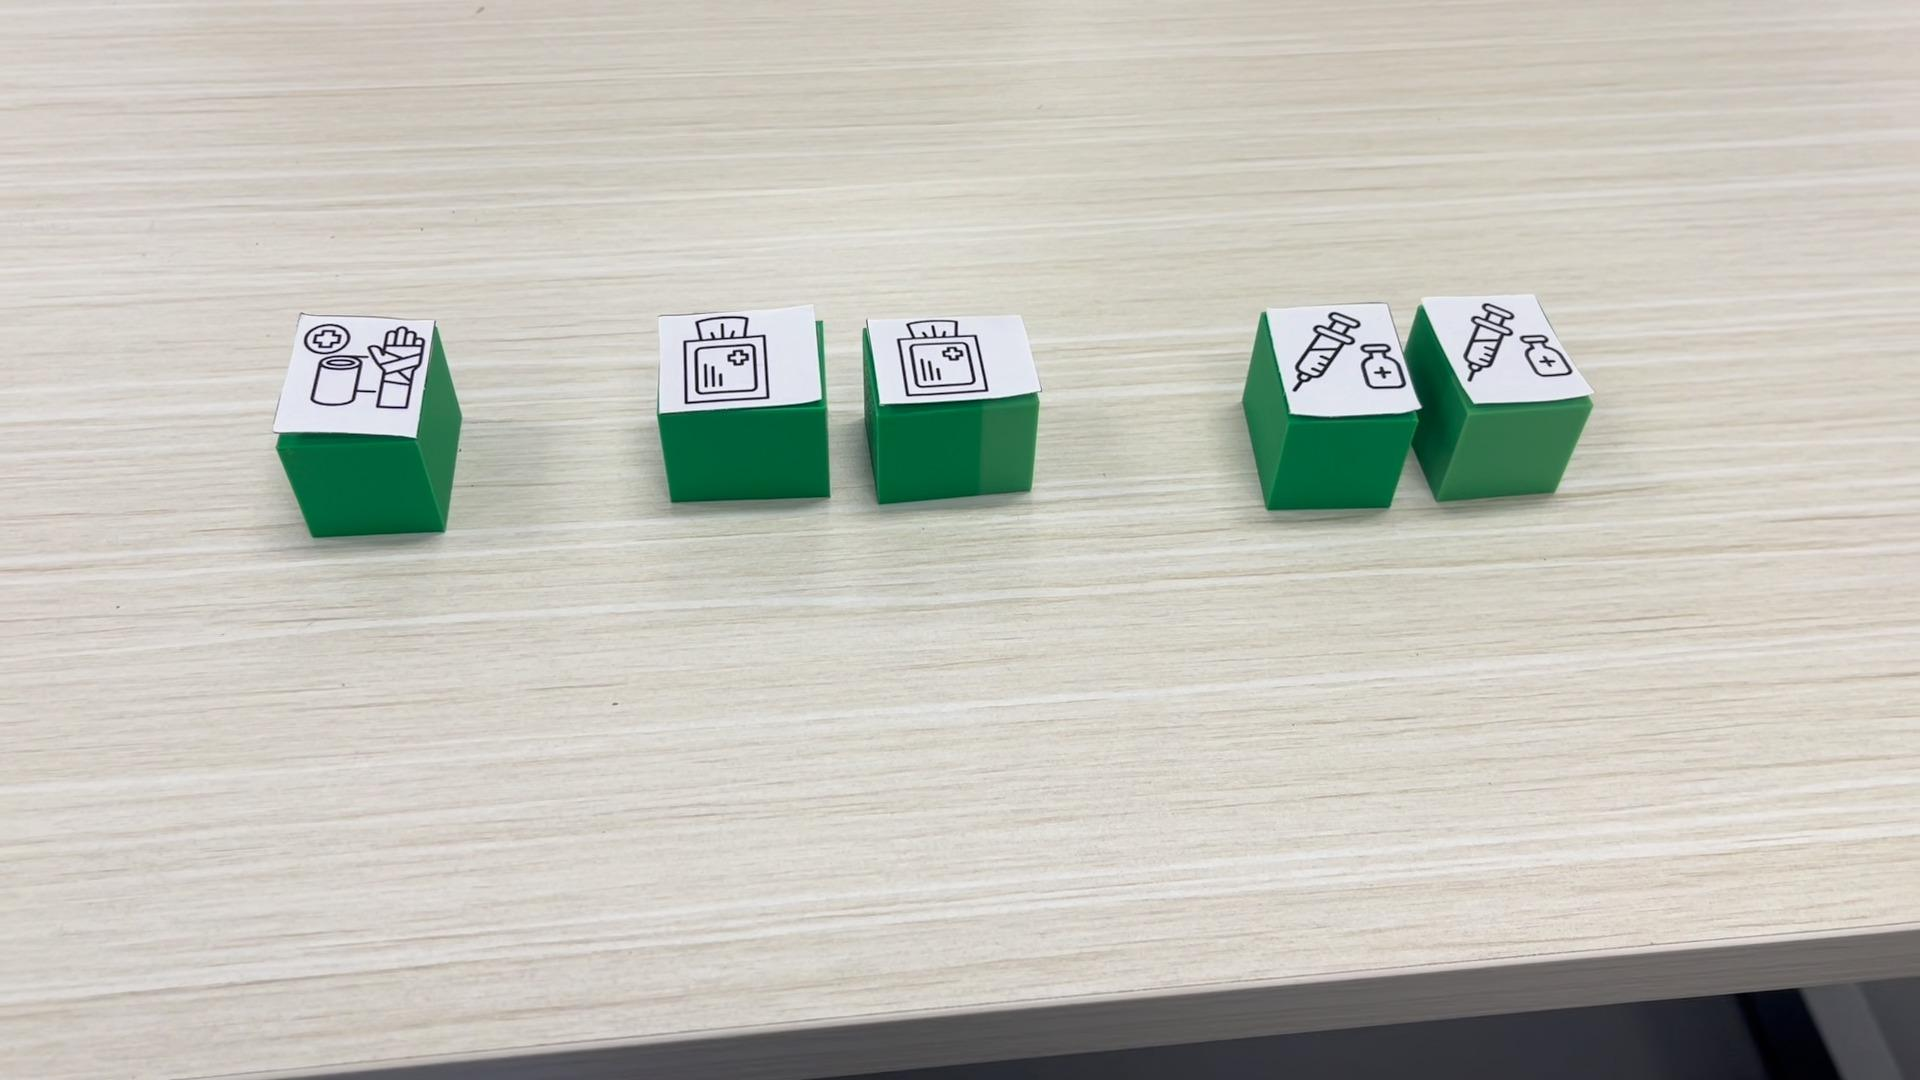Bandages: (273, 311, 462, 539)
Gauze: (853, 309, 1043, 504), (655, 302, 828, 502)
antiseptic cream: (1404, 290, 1594, 501), (1242, 299, 1423, 510)
